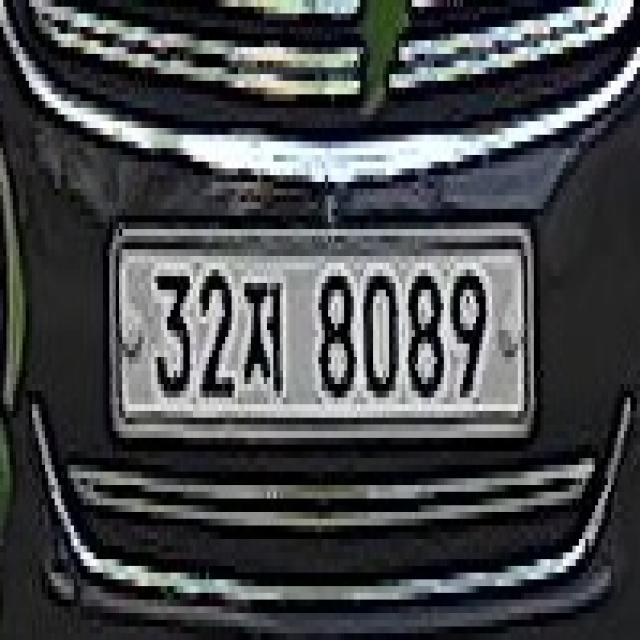0: (360, 263, 399, 404)
2: (193, 270, 232, 398)
3: (151, 256, 196, 411)
8: (312, 270, 357, 404), (405, 263, 447, 404)
9: (447, 263, 489, 404)
jeo: (235, 276, 286, 398)
license_plate: (116, 243, 527, 431)
